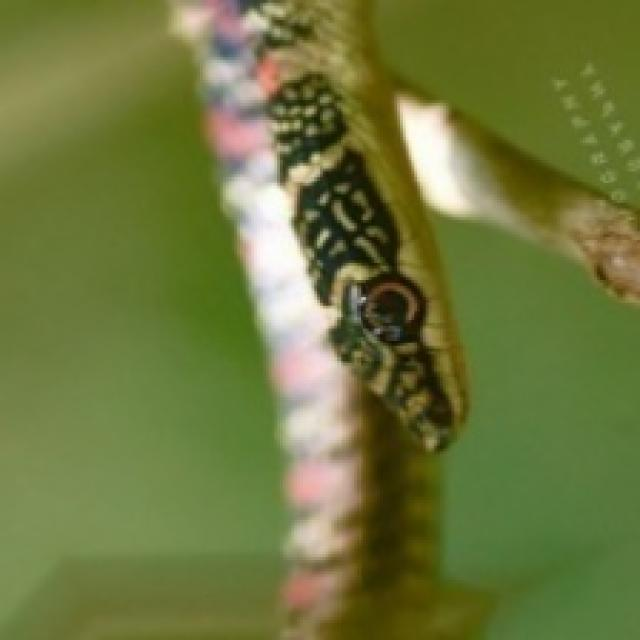paradise tree snake: (188, 0, 468, 640)
